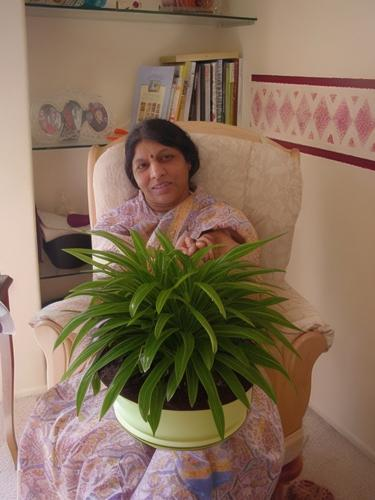chair: (31, 111, 335, 489)
person: (32, 117, 289, 500)
person/hand: (125, 327, 197, 396), (127, 305, 204, 354)
person/head: (125, 120, 198, 206)
pottedplant: (54, 230, 301, 450)
